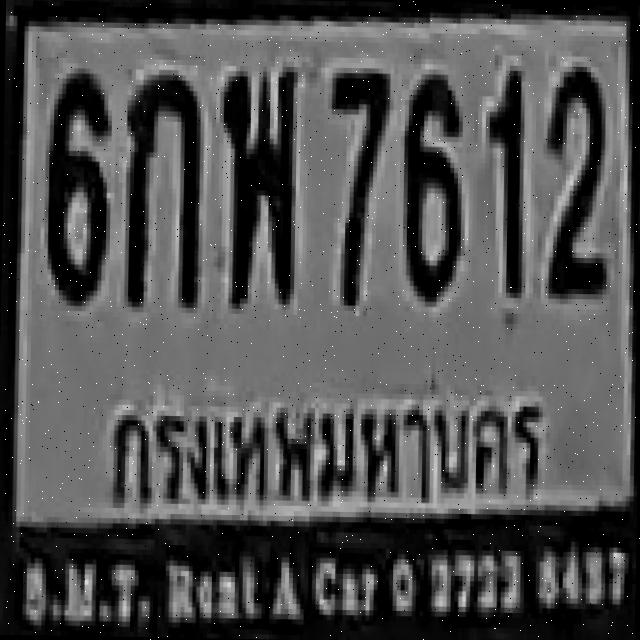1: (482, 67, 524, 295)
10GorGai: (120, 69, 201, 302)
2: (542, 58, 608, 297)
39PhorPan: (216, 60, 298, 304), (216, 60, 298, 273)
6: (43, 67, 109, 301), (402, 68, 464, 302)
7: (326, 67, 388, 306)
Bangkok: (87, 364, 569, 532)
